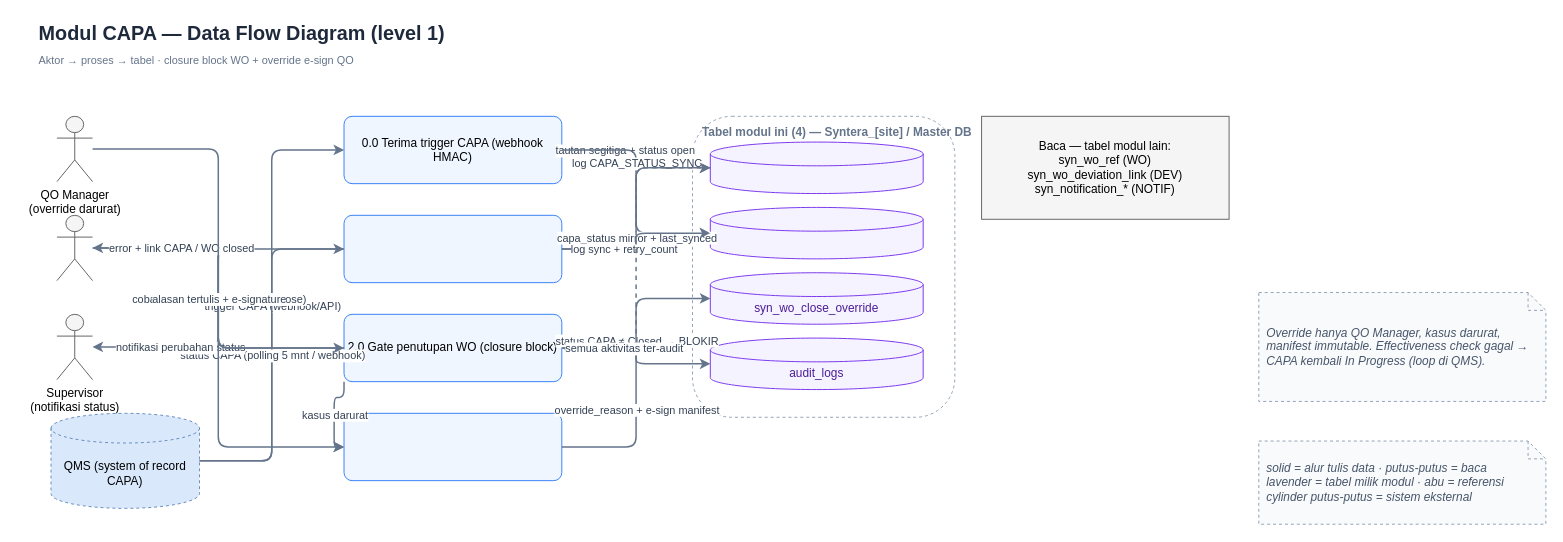
The diagram is 1563 pixels wide and 542 high, and some of its shapes have lost their labels. The centre of each missing label's shape, as x and y in pixels:
1.0 Mirror status CAPA (polling/webhook): [452,248]
3.0 Override darurat QO (e-sign): [452,446]
Engineer / WO Owner: [74,247]
syn_qms_sync_log: [816,232]
syn_wo_deviation_capa_link: [816,167]
